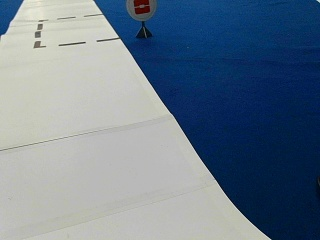company: (126, 0, 156, 20)
